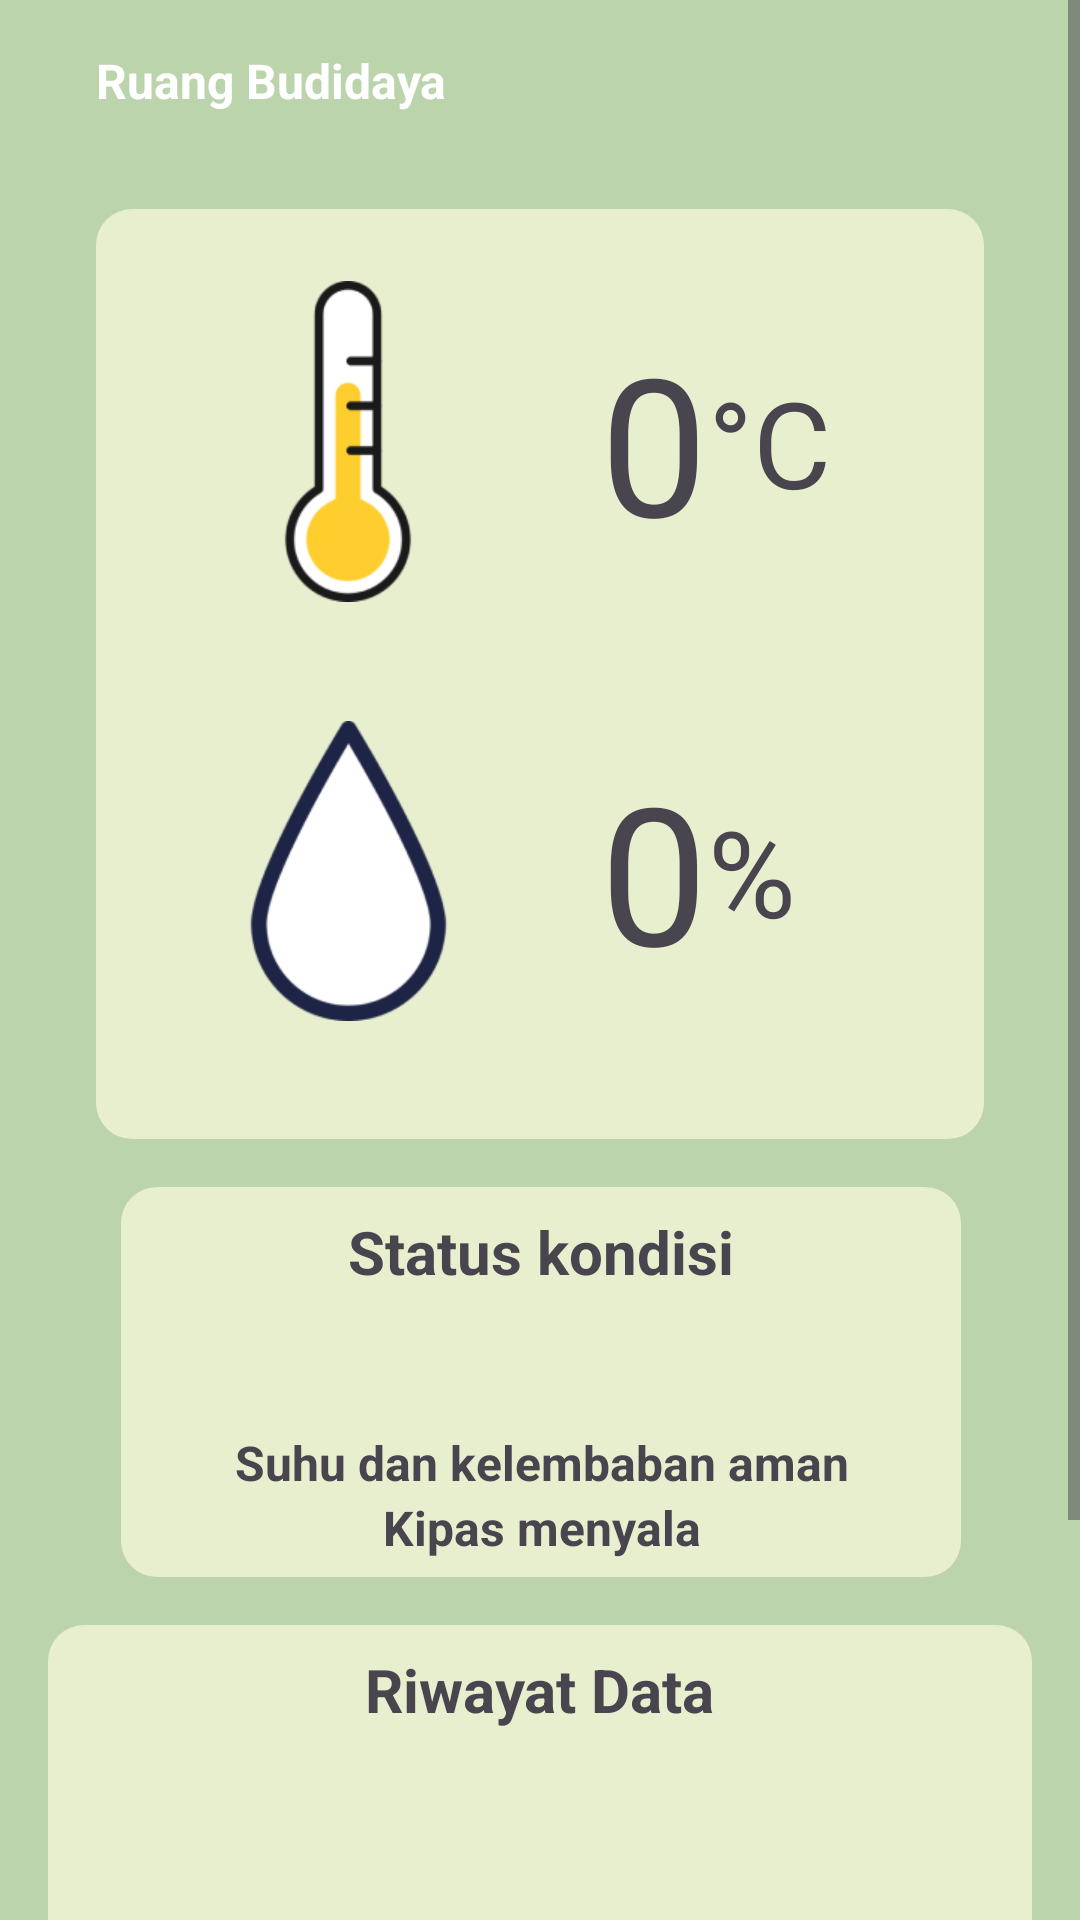

Icons on this 1080 x 1920 Android screen, each with its box as [x1, y1, x2, y2]:
humidity: [250, 721, 447, 1021]
thermometer: [285, 281, 411, 602]
